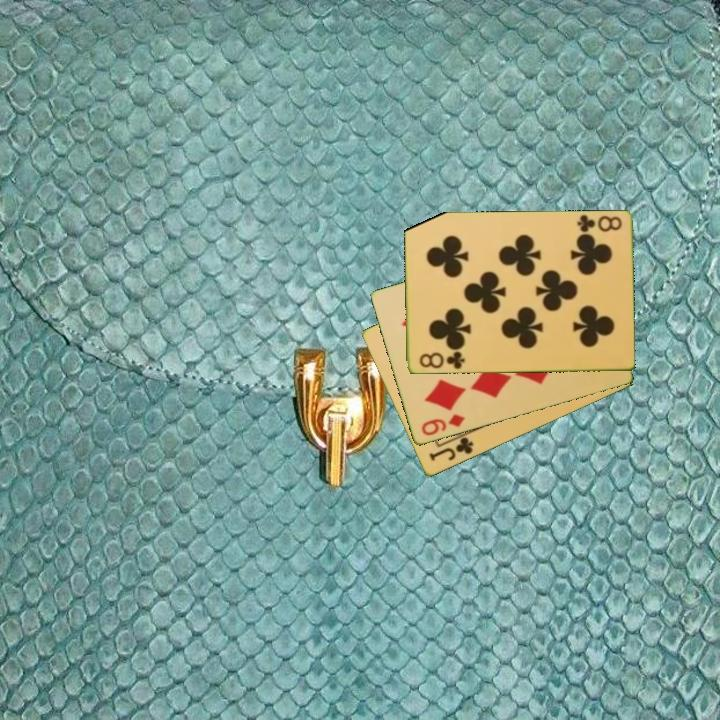8c: (416, 348, 467, 372), (573, 212, 624, 235)
9d: (418, 411, 467, 439)
Jc: (425, 434, 476, 465)
